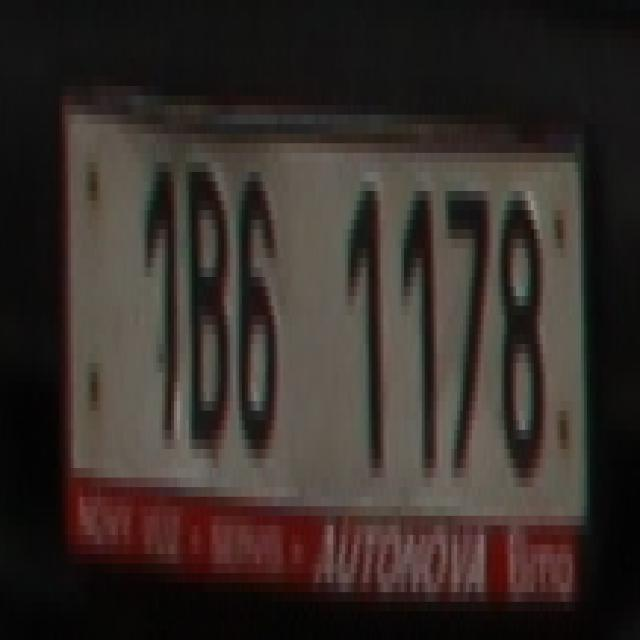1: (398, 182, 440, 487), (139, 162, 180, 458), (345, 172, 386, 468)
6: (236, 172, 277, 468)
7: (442, 172, 492, 478)
8: (498, 191, 542, 468)
B: (183, 153, 230, 458)
